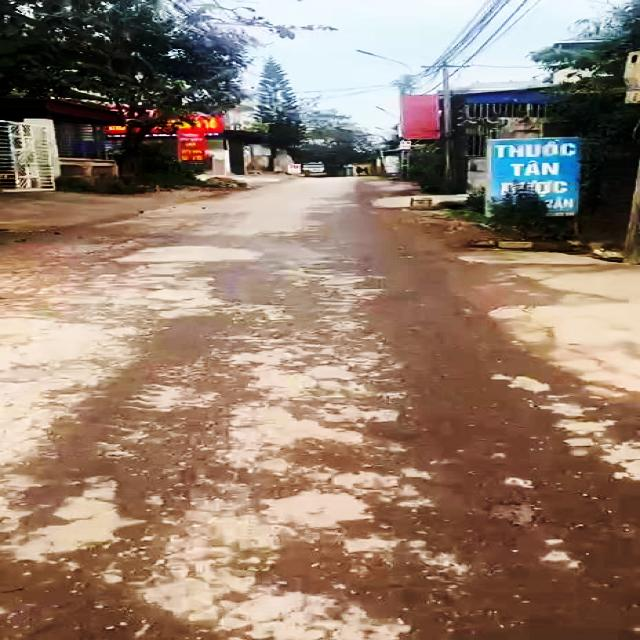pothole: (480, 498, 545, 531)
